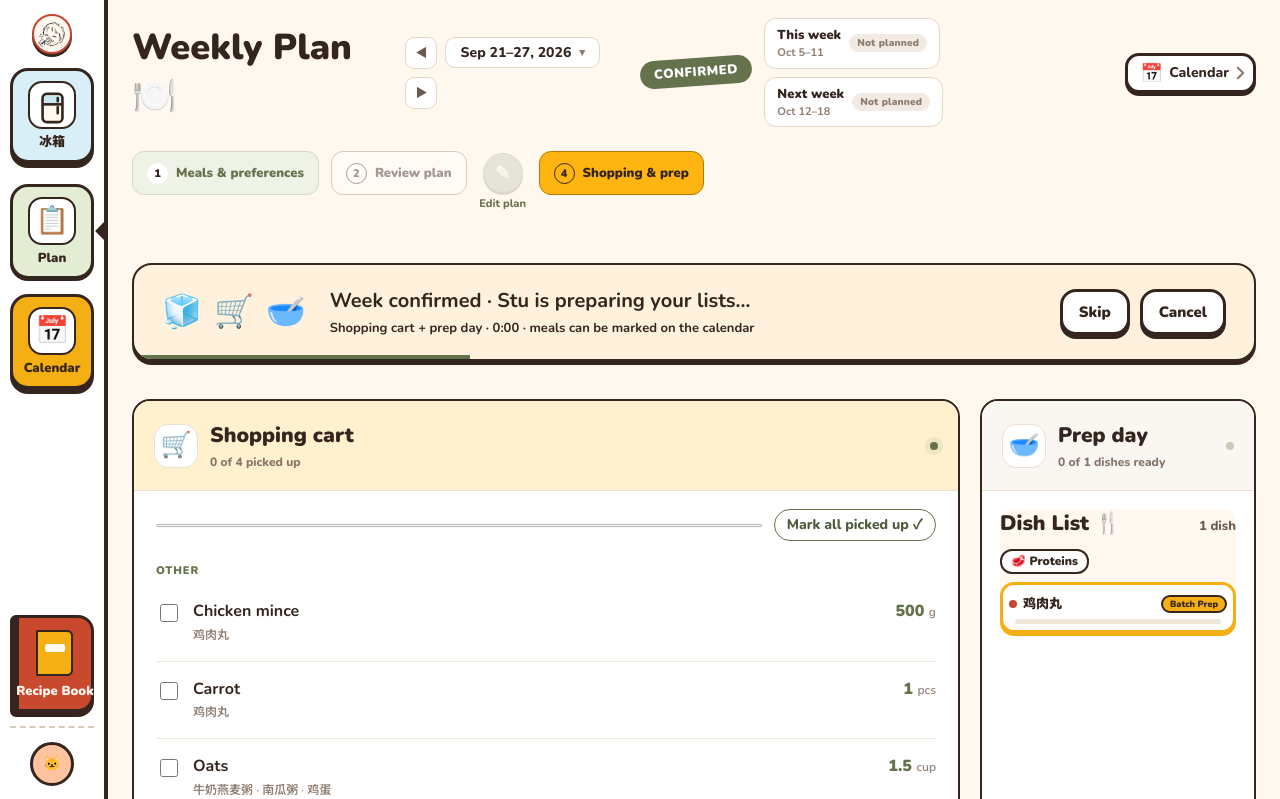
Test case: while Stu prepares a confirmed week's lists › Skip stops Stu and keeps the week confirmed with the app's own lists
Check: the text "Week confirmed · Stu is preparing your lists…" is shown, box [330,287,754,315]
Click the button "Skip".
click(1095, 312)  # box [1060,289,1130,335]
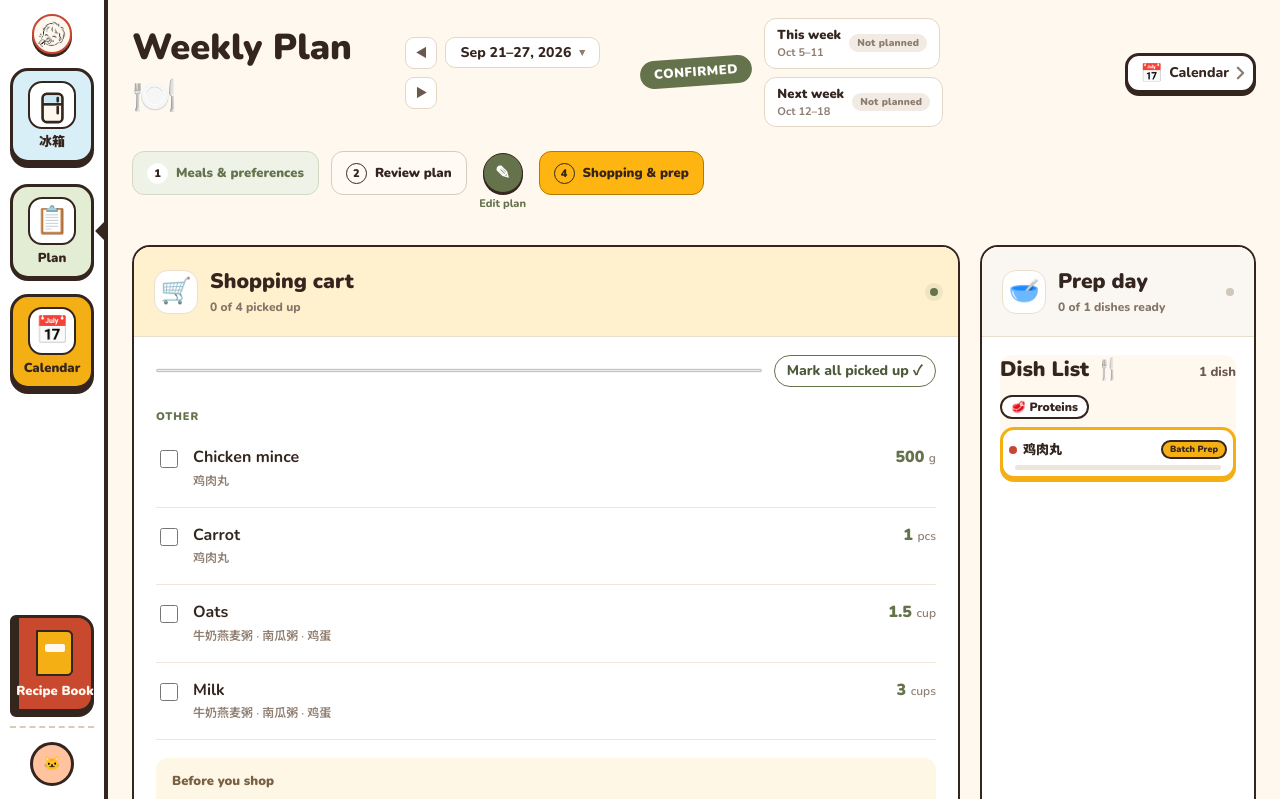
Check: the text "Stu is preparing your lists" is gone
